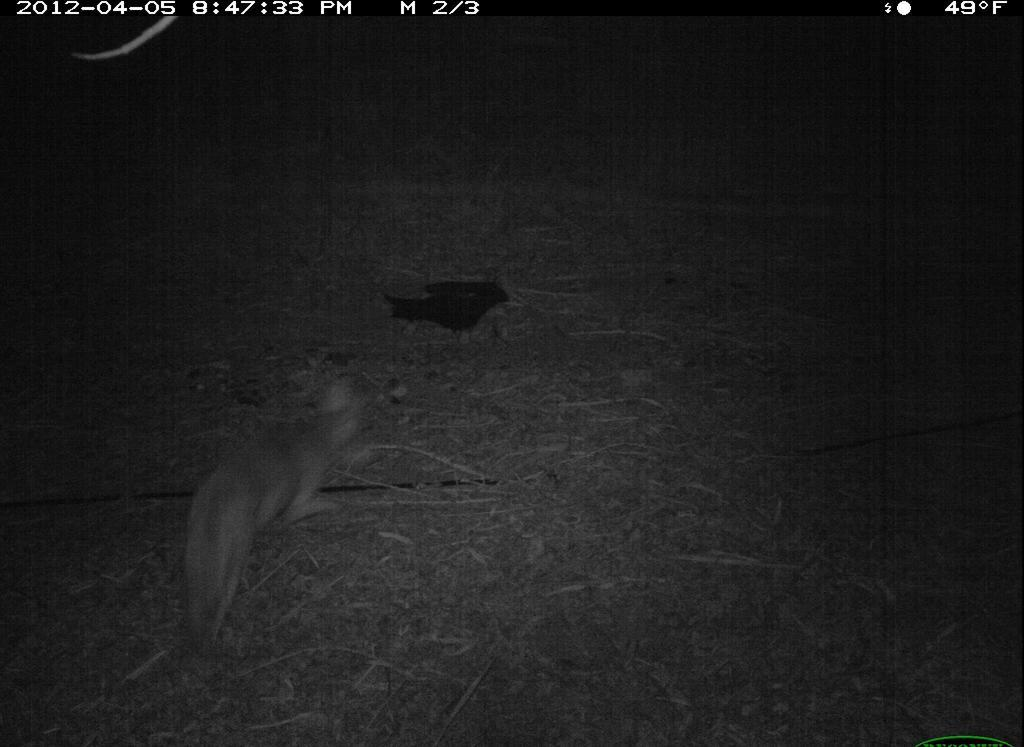coyote: (175, 379, 383, 664)
